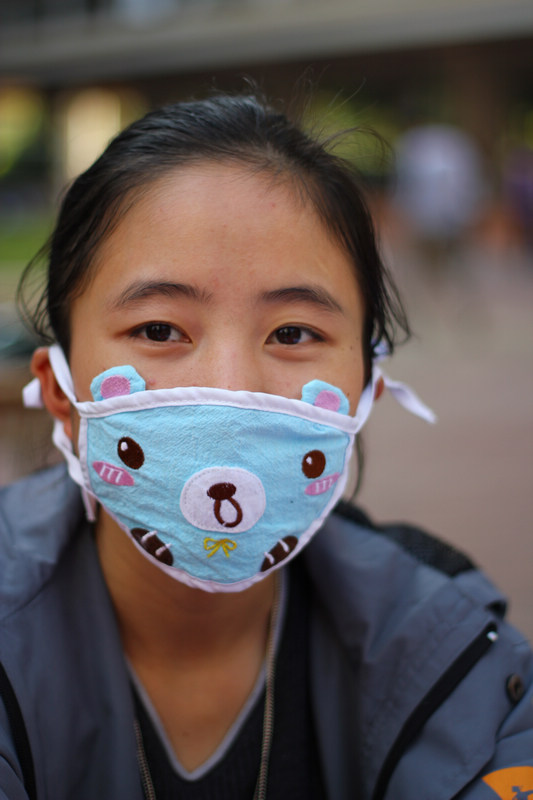face_mask: (79, 158, 358, 616)
